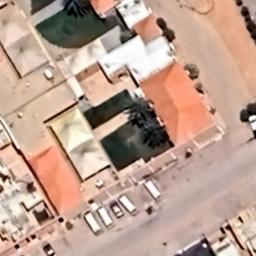sedan: (108, 198, 126, 222), (40, 237, 60, 256), (246, 112, 256, 138)
van: (81, 209, 106, 236), (95, 204, 118, 232), (117, 192, 141, 217), (142, 177, 164, 202)
